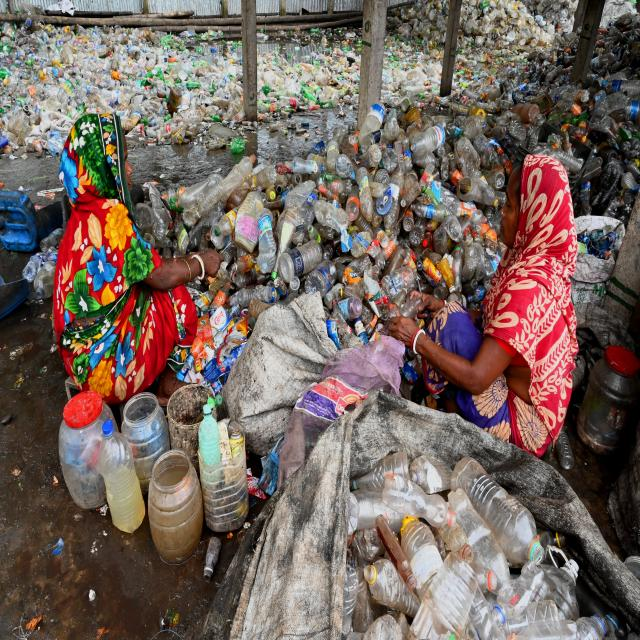plastic: (383, 467, 498, 632), (331, 131, 459, 268), (222, 163, 317, 278)
